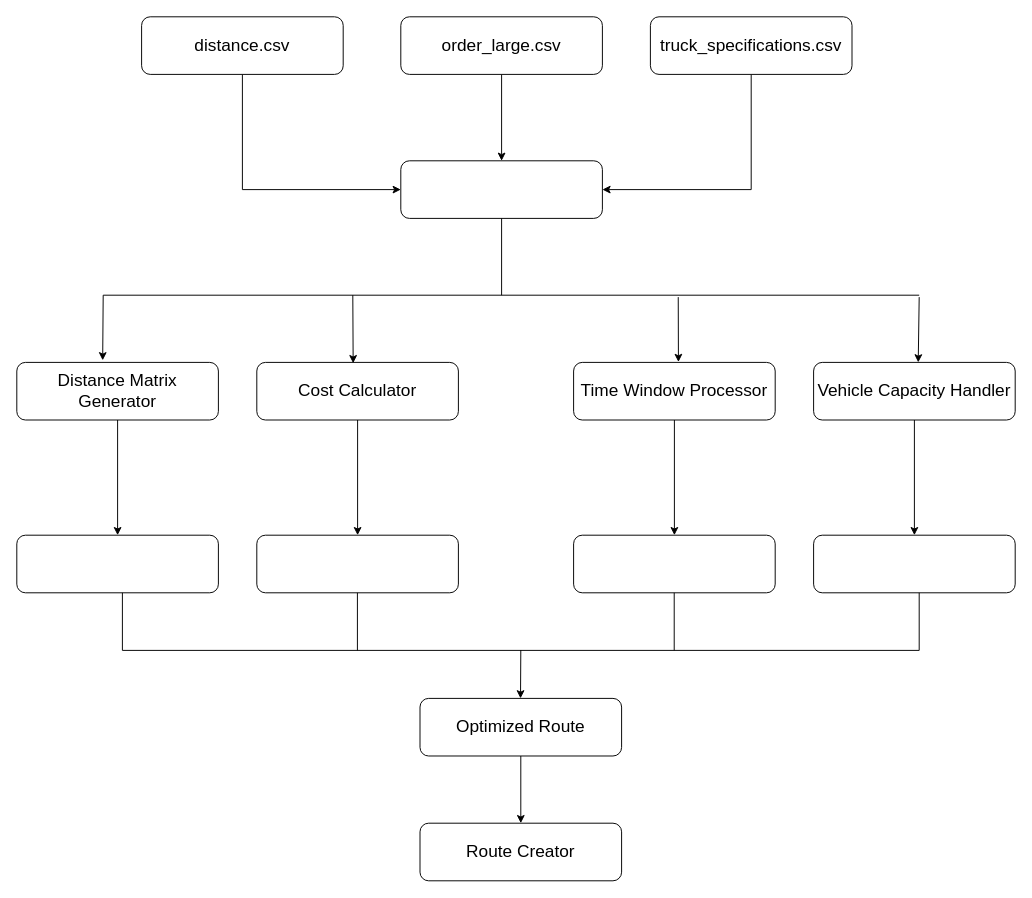
Some shapes in this 1032 by 898 pixel diagram are drawn without their labels. The shapes that lost their labels are listed below. From the top down, each one's centre as x and y in pixels, then its label:
At pixel 501 189: "DataProcessor".
At pixel 117 563: "Distance Matrix".
At pixel 357 563: "Cost Matrix".
At pixel 674 563: "Time Window".
At pixel 914 563: "Vehicle Constraints".
